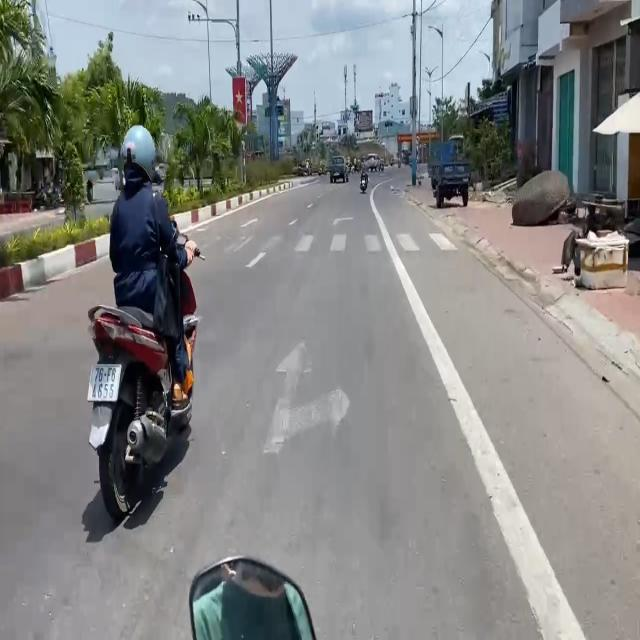walk-crossing: (193, 231, 462, 253)
